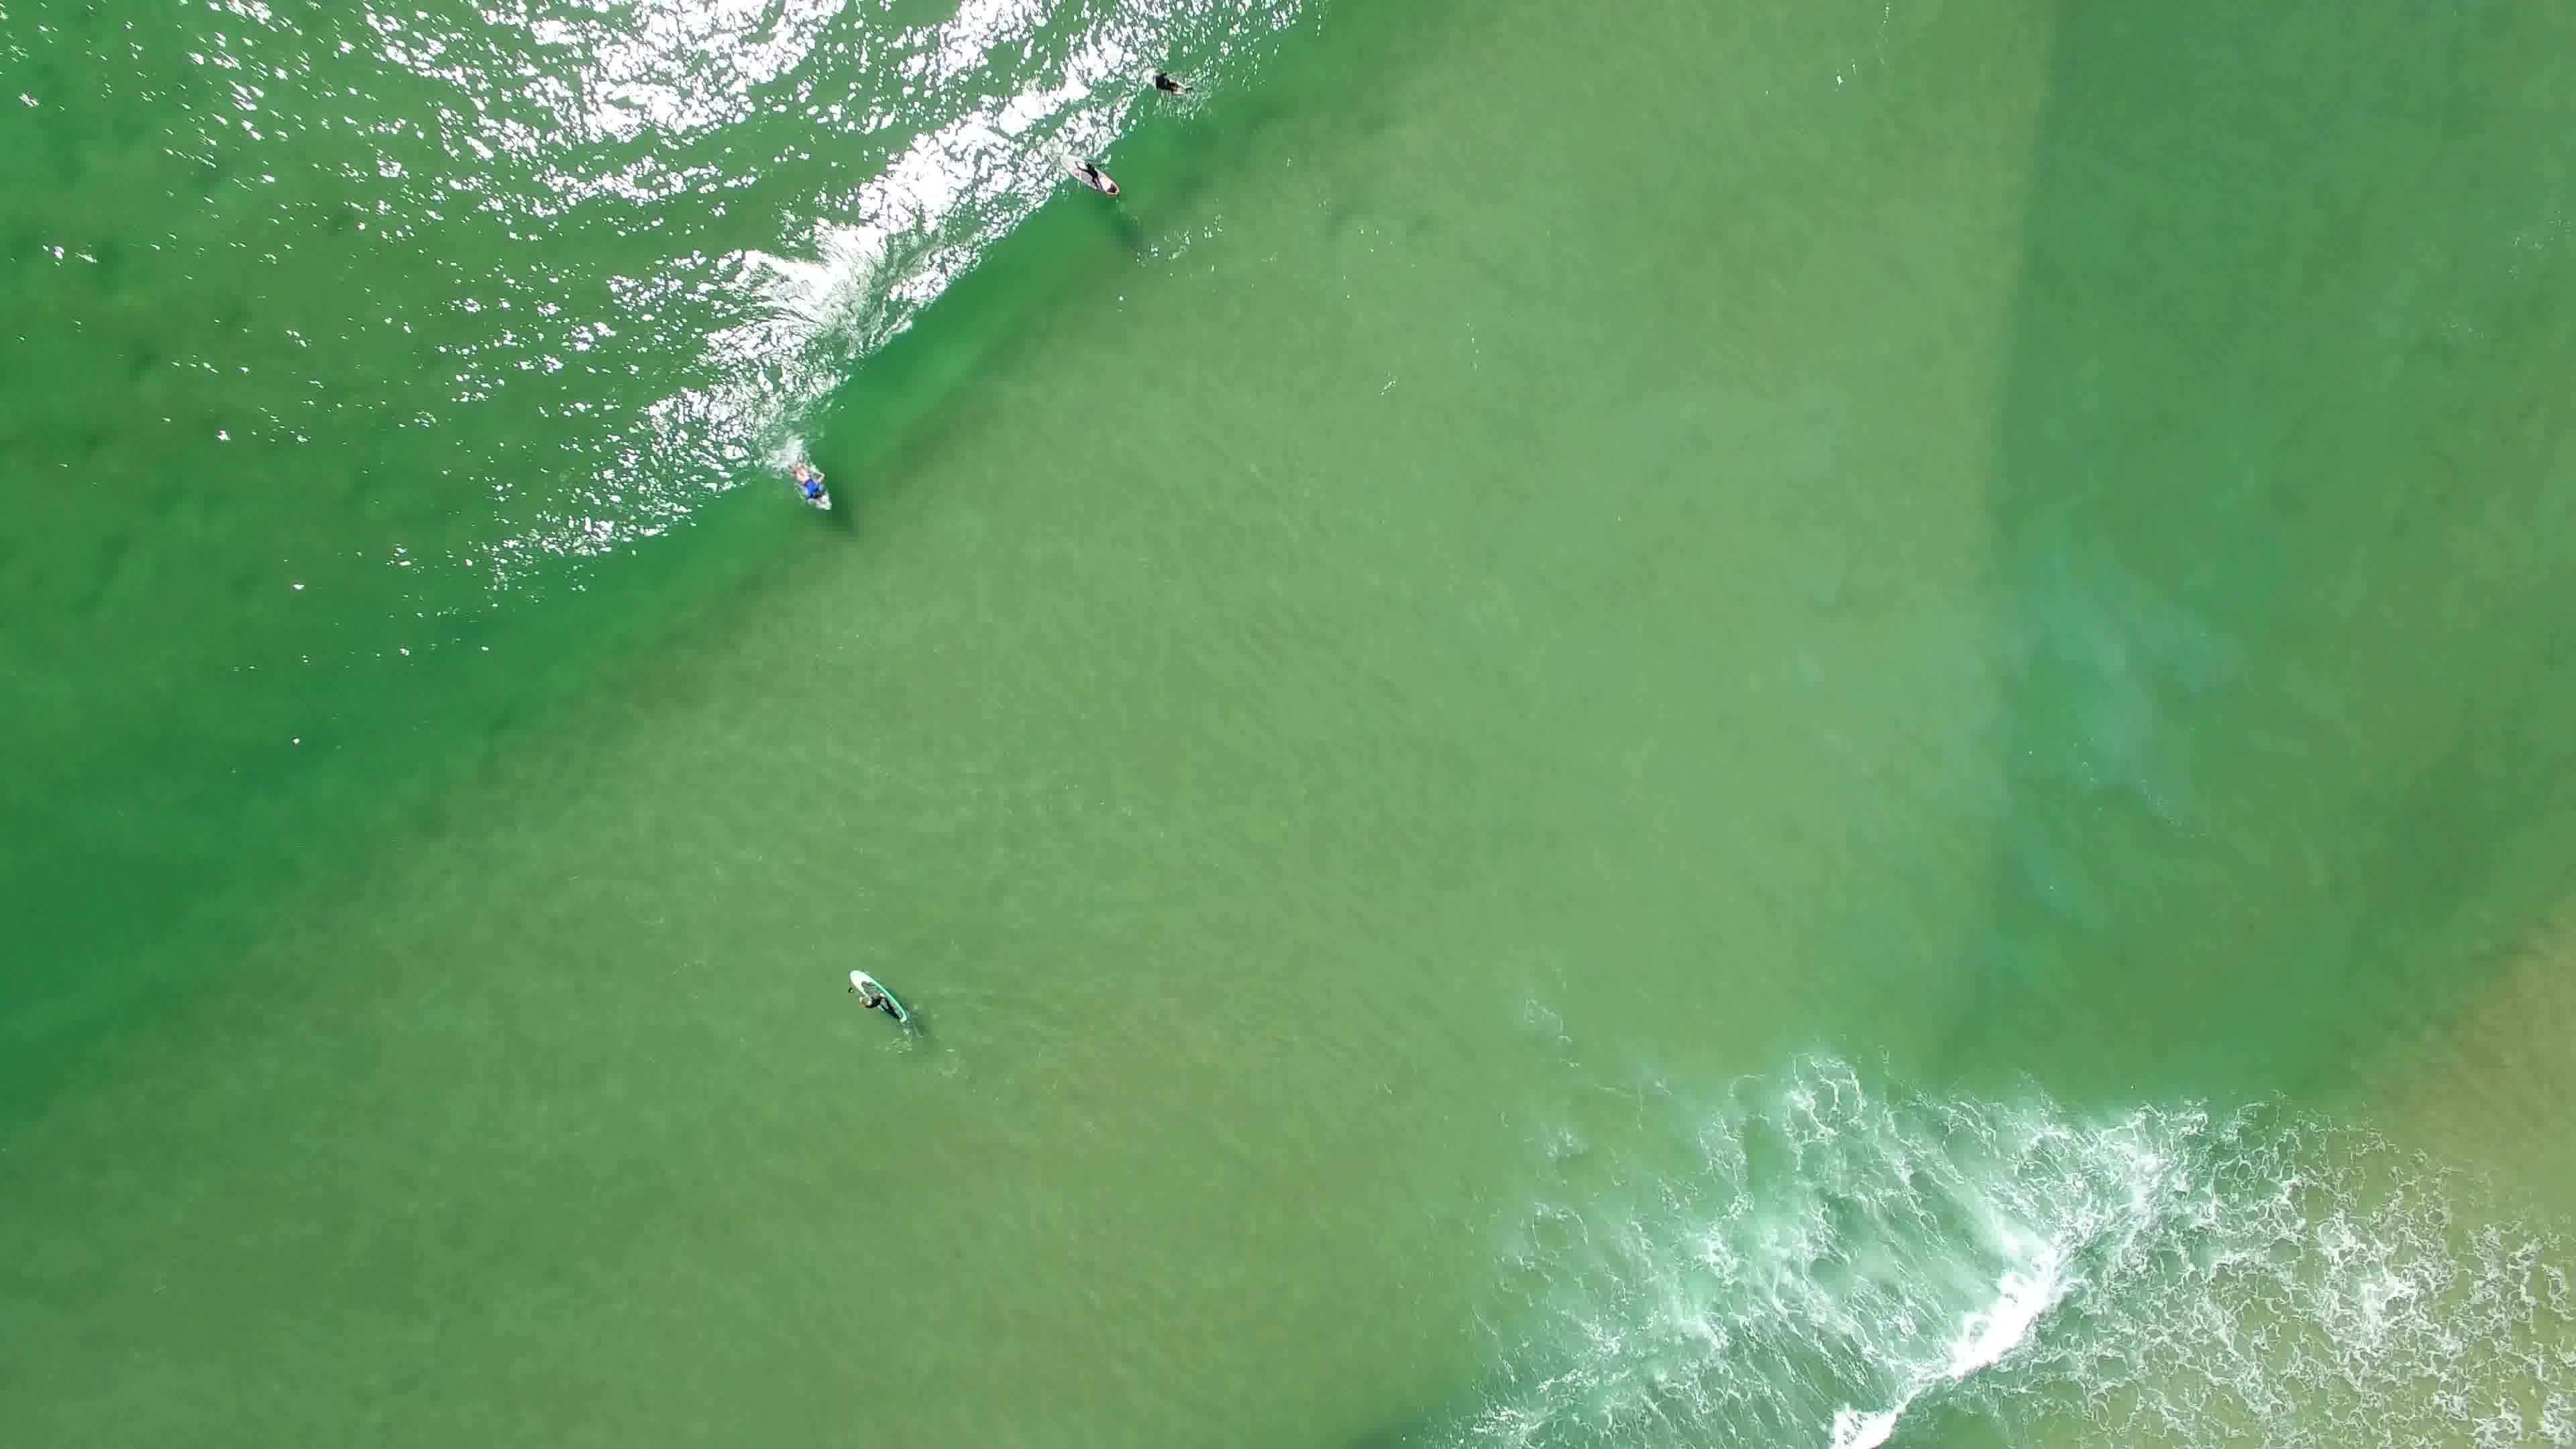surfer: (775, 444, 847, 522), (844, 952, 916, 1024), (1062, 145, 1129, 195), (1146, 62, 1201, 97)
